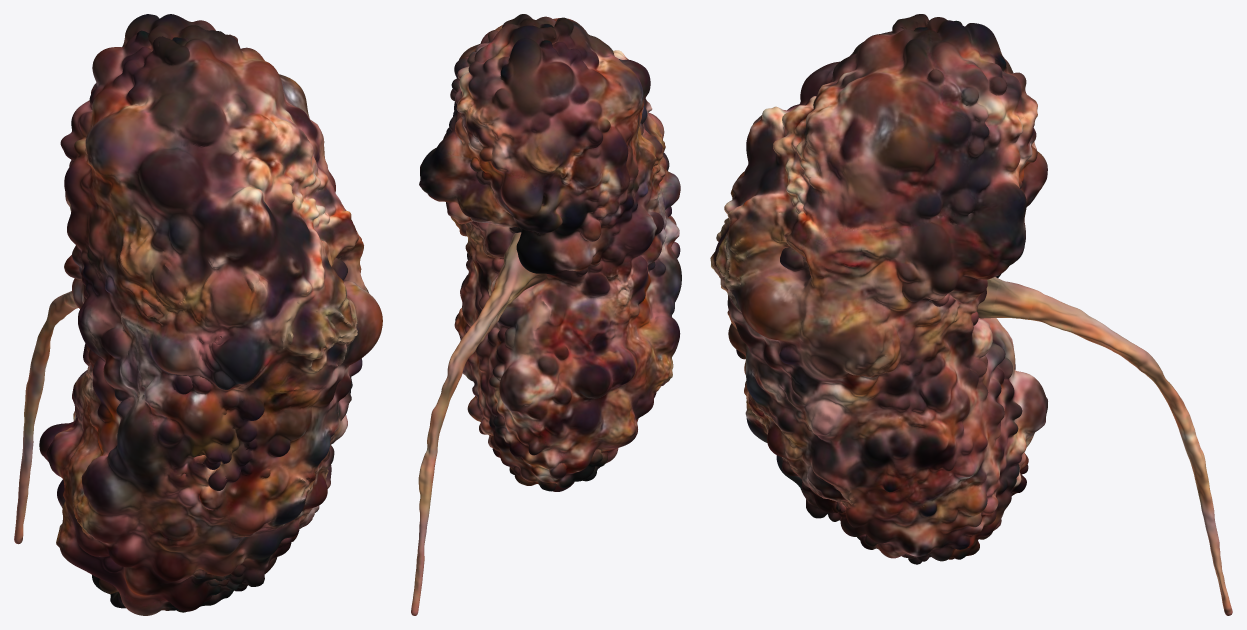
3 views of the same model, side by side, from view 1: azimuth 30°, elevation 25°; view 2: azimuth 150°, elevation 25°; view 3: azimuth 270°, elevation 25° (orthographic). The views are drawn at different scales.
Parts seen in each view (by area): view 1: Object_22, Object_21, Object_23, Object_24, Object_20, Object_17; view 2: Object_20, Object_21, Object_22, Object_23, Object_24, Object_3, Object_6, Object_13, Object_5, Object_17; view 3: Object_23, Object_22, Object_21, Object_24, Object_20, Object_3, Object_6, Object_5.
Part boxes in pixels (<box>): Object_22: <box>41,20,346,610</box>; Object_21: <box>39,38,376,615</box>; Object_23: <box>46,14,382,608</box>; Object_24: <box>72,48,379,615</box>; Object_20: <box>41,14,376,612</box>; Object_17: <box>26,352,49,393</box>; Object_20: <box>420,17,673,487</box>; Object_21: <box>419,17,680,491</box>; Object_22: <box>430,24,680,490</box>; Object_23: <box>443,14,681,491</box>; Object_24: <box>451,18,681,462</box>; Object_3: <box>453,260,530,359</box>; Object_6: <box>478,288,511,329</box>; Object_13: <box>503,232,547,289</box>; Object_5: <box>461,317,492,348</box>; Object_17: <box>419,436,438,475</box>; Object_23: <box>712,17,971,564</box>; Object_22: <box>711,35,1001,561</box>; Object_21: <box>729,20,1032,561</box>; Object_24: <box>716,22,906,558</box>; Object_20: <box>710,14,1047,546</box>; Object_3: <box>990,279,1127,354</box>; Object_6: <box>1028,290,1078,331</box>; Object_5: <box>1070,309,1109,345</box>.
Size of the model in its own units: 1.07 by 2.35 by 1.87.
2 materials, 2 textured.
